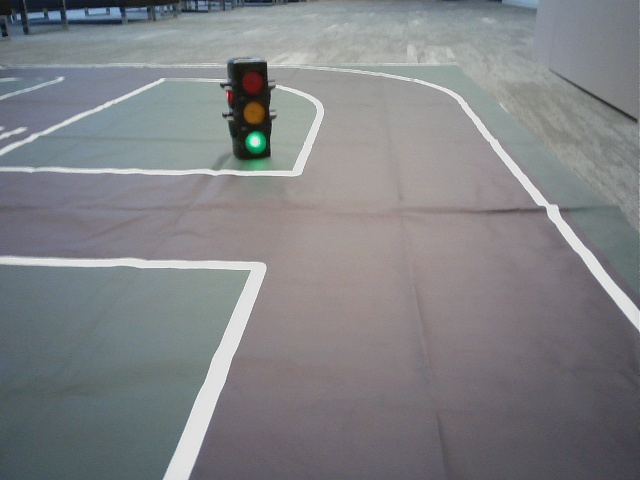green: (235, 65, 271, 155)
